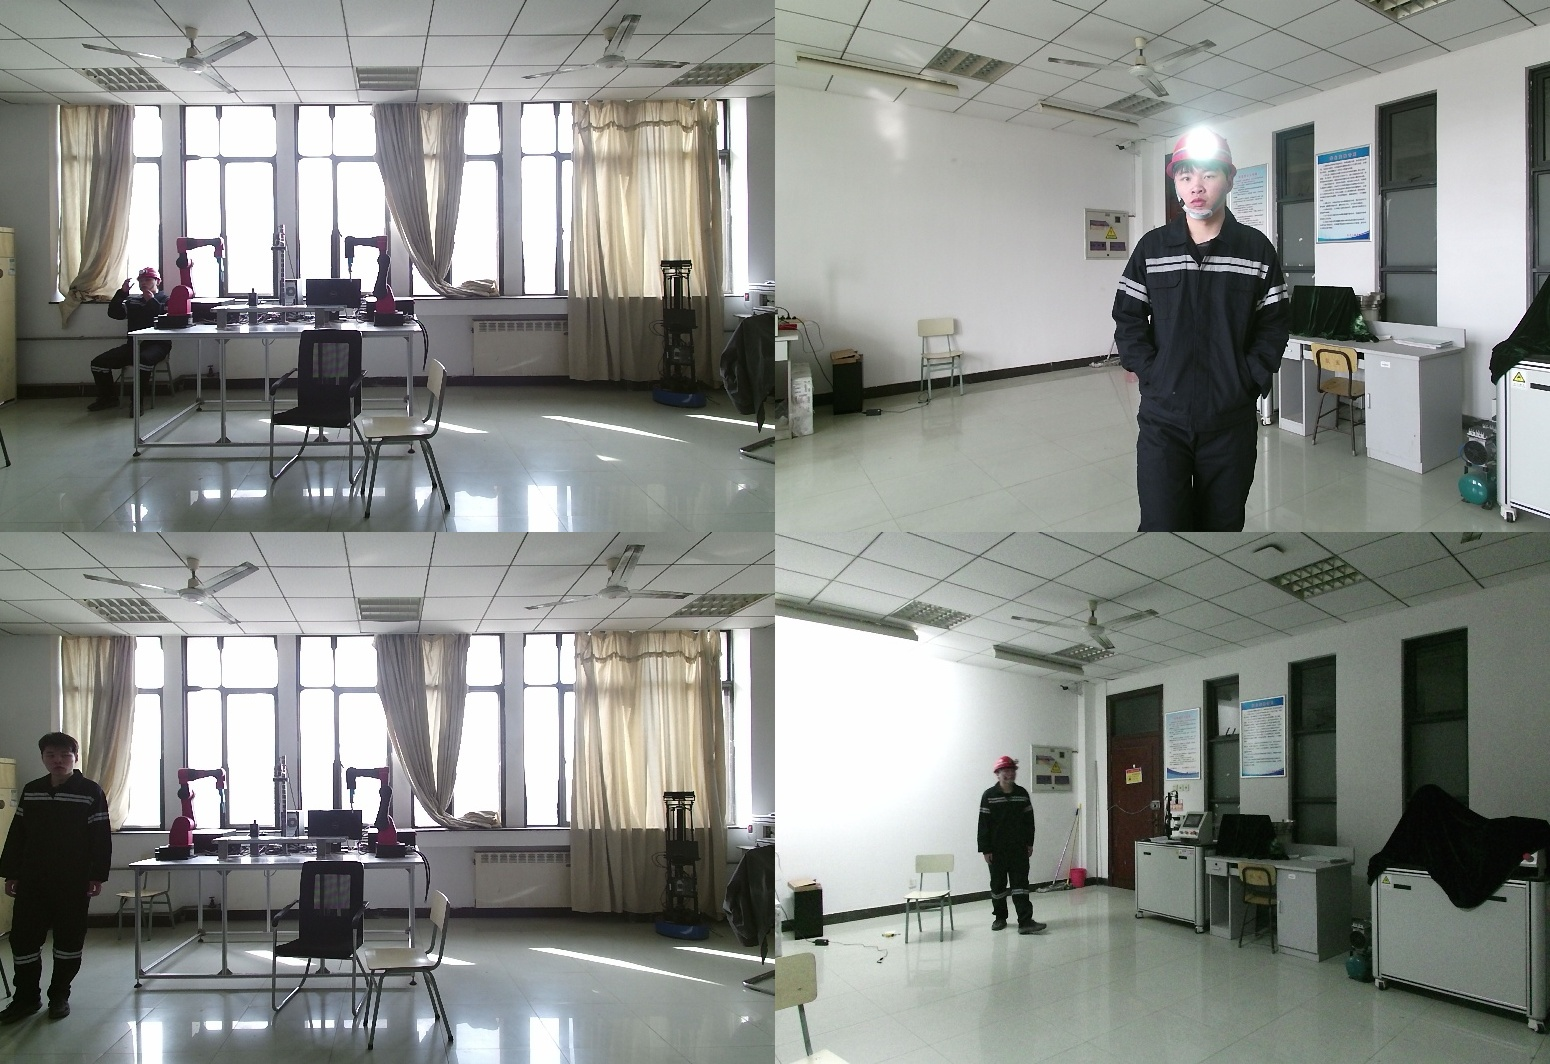person: (1113, 126, 1313, 532), (3, 732, 118, 1019), (967, 756, 1045, 943), (83, 266, 172, 416)
